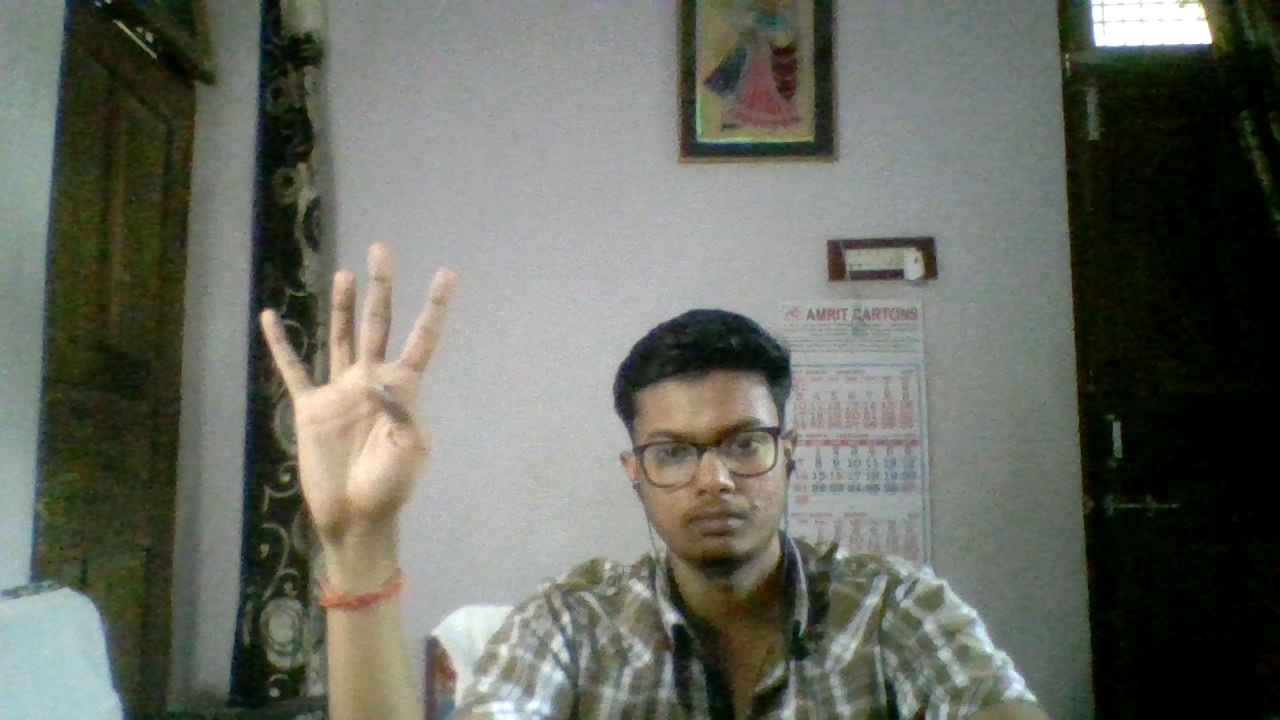four: (205, 217, 504, 558)
